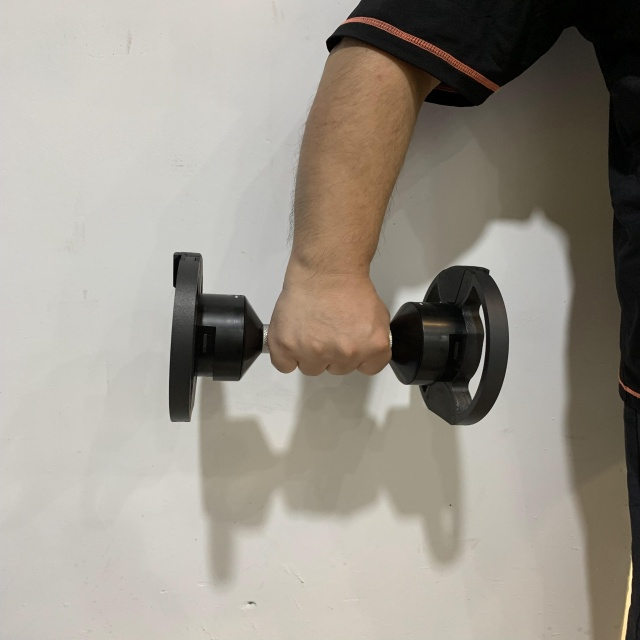01-2kg: (166, 247, 512, 428)
